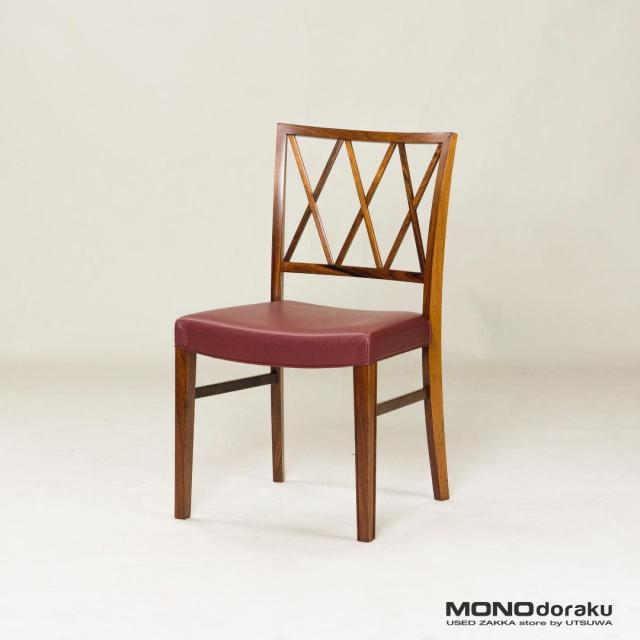chair vintage: (156, 118, 456, 551)
